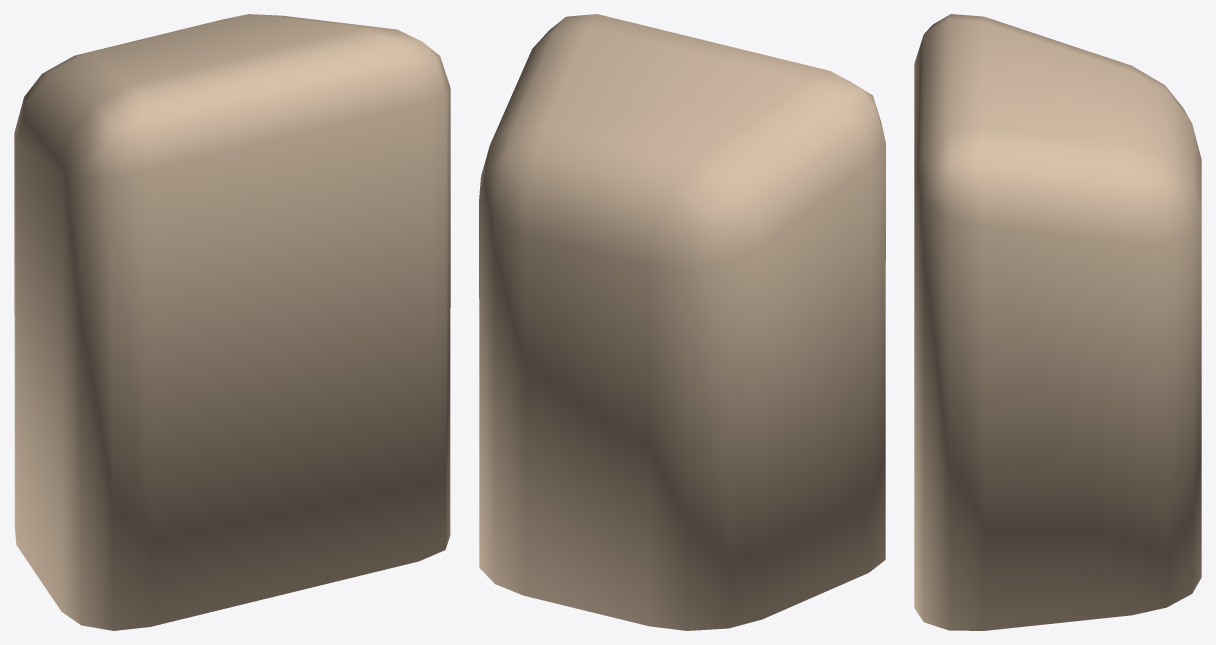
File: test shapes.obj
3 renders of one model, left to right at view 1: azimuth 30°, elevation 25°; view 2: azimuth 150°, elevation 25°; view 3: azimuth 270°, elevation 25°, orthographic. The views are drawn at different scales.
Parts seen in each view (by area): view 1: Cube1.001; view 2: Cube1.001; view 3: Cube1.001.
Boxes of the visible parts, x1,y1,x2,y2 form: Cube1.001: (14,14,450,630); Cube1.001: (479,14,885,630); Cube1.001: (914,14,1201,630).
Size of the model in its own units: 0.2757 by 0.3629 by 0.2.
